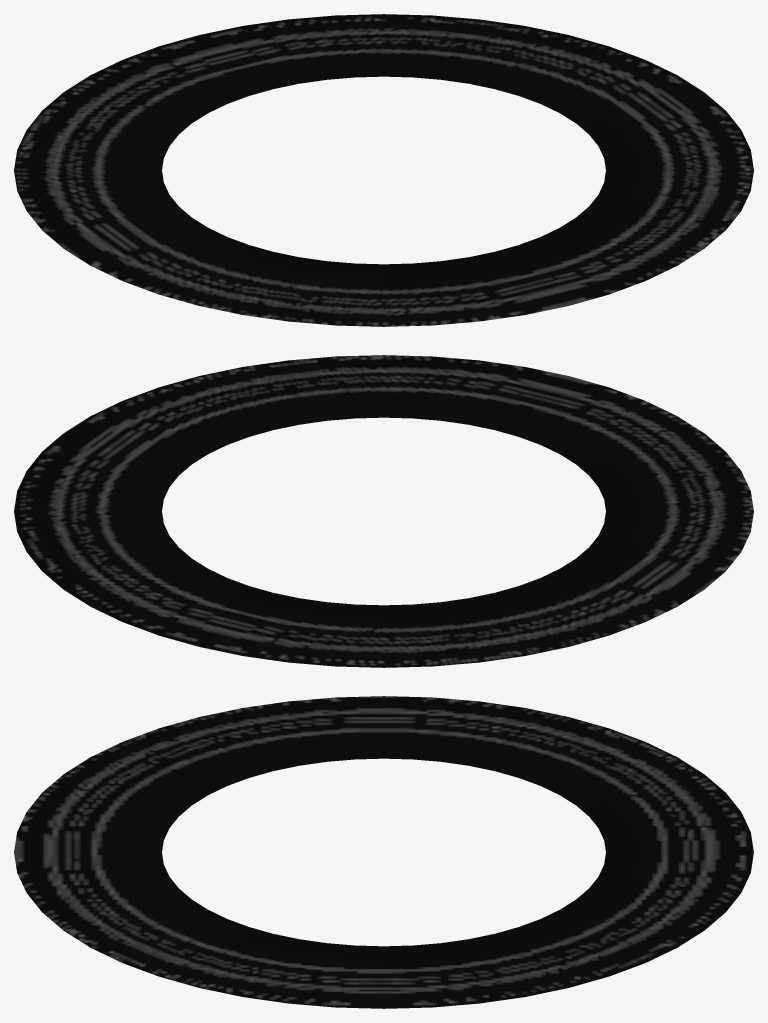
Rendered from uranusrings.obj.
3 views of the same model, one above another, from view 1: azimuth 30°, elevation 25°; view 2: azimuth 150°, elevation 25°; view 3: azimuth 270°, elevation 25° (orthographic).
Visible parts, largest first — view 1: Mesh_Mesh.001_Torus.001; view 2: Mesh_Mesh.001_Torus.001; view 3: Mesh_Mesh.001_Torus.001.
Part boxes in pixels (box(x1,y1,x2,y2)): Mesh_Mesh.001_Torus.001: box(14, 14, 753, 326); Mesh_Mesh.001_Torus.001: box(14, 355, 753, 667); Mesh_Mesh.001_Torus.001: box(14, 696, 753, 1008).
Size of the model in its own units: 3.75 by 0.01 by 3.75.
Materials: 1 (1 with a texture image).
